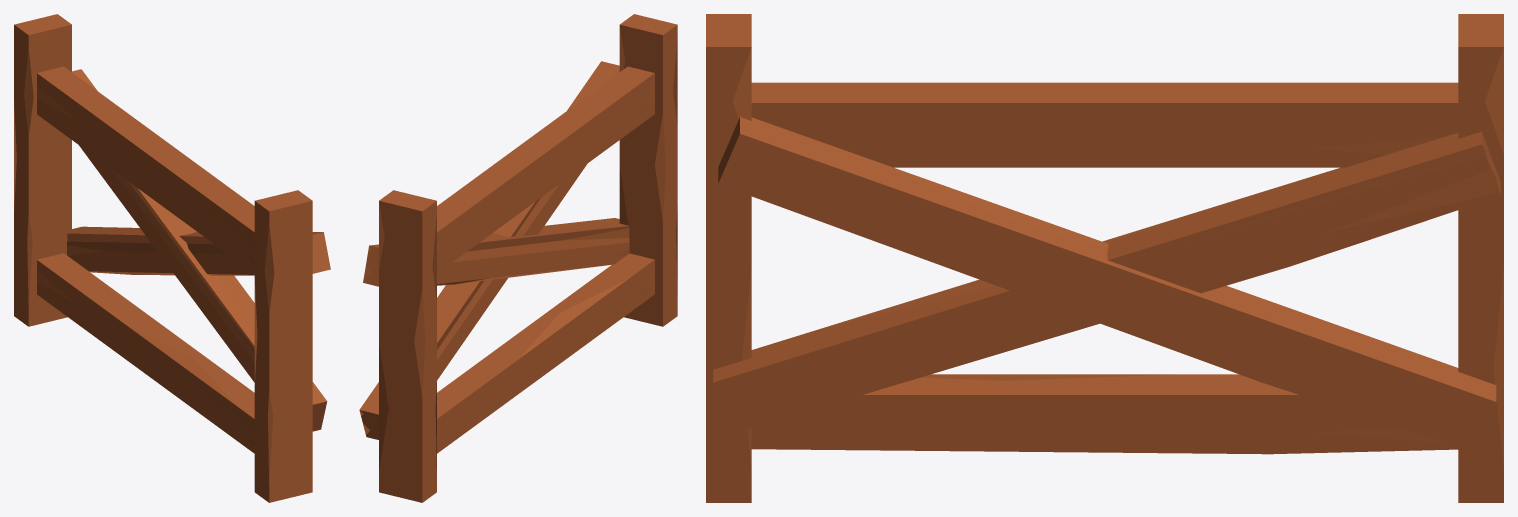
File: fence.fbx
The picture shows the model from 3 angles, left to right: view 1: azimuth 30°, elevation 25°; view 2: azimuth 150°, elevation 25°; view 3: azimuth 270°, elevation 25°; orthographic projection. The views are drawn at different scales.
Visible parts, largest first — view 1: 立方体.023; view 2: 立方体.023; view 3: 立方体.023.
Part boxes in pixels (x1,y1,x2,y2): 立方体.023: [14, 14, 330, 502]; 立方体.023: [359, 14, 677, 502]; 立方体.023: [706, 14, 1503, 502].
Bounding box in the file's own units: 909 × 135 × 573.
